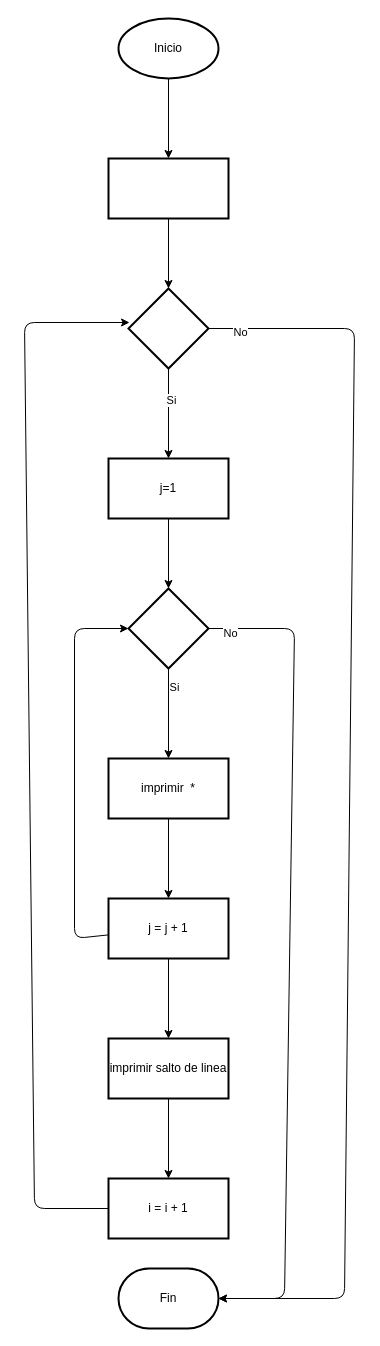
Image size: 380x1346. Some labels were removed from this diagram. The shapes that lost their labels are listed below. From the top down, each one's centre as x and y in pixels, then its label:
the point at 168,188: i=1
the point at 168,328: i<=5
the point at 168,628: j <= i
